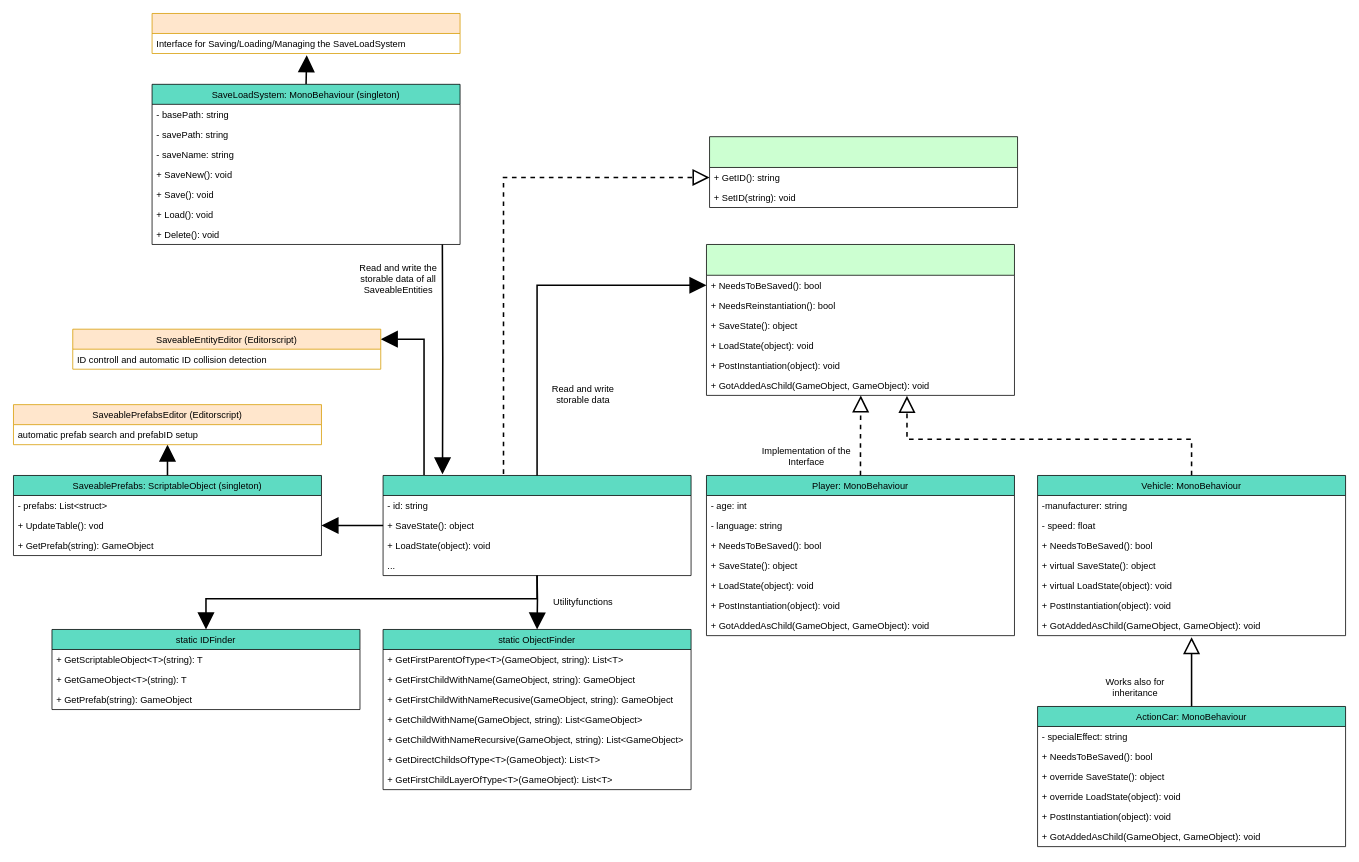
Some shapes in this 1359 by 862 pixel diagram are drawn without their labels. Each missing label, with the box of its shape:
SaveableEntity: MonoBehaviour: (382, 475, 691, 576)
SaveLoadSystemEditor (Editorscript): (151, 13, 460, 54)
«interface» ISaveable: (706, 244, 1014, 395)
«interface» ISaveID: (709, 136, 1018, 208)
